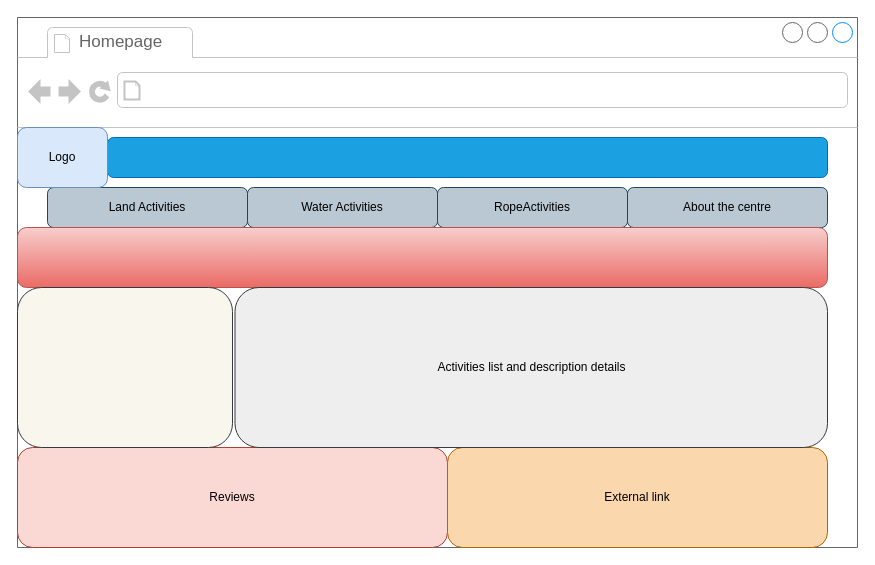
Image size: 875x565. Some labels were removed from this diagram. Each missing label, with the centre of its shape:
"https://www.landbased" goes at point 272,90.
"Land Based Activities" goes at point 422,257.
"Lochquarry outdoor centre" goes at point 467,157.
"Photo" goes at point 124,367.
